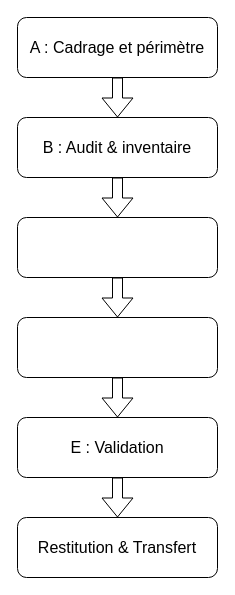
Some shapes in this 235 by 595 pixel diagram are drawn without their labels. Each missing label, with the centre of its shape:
"C : Plan de remédiation" goes at (117,247).
"D : Implémentation" goes at (117,347).
